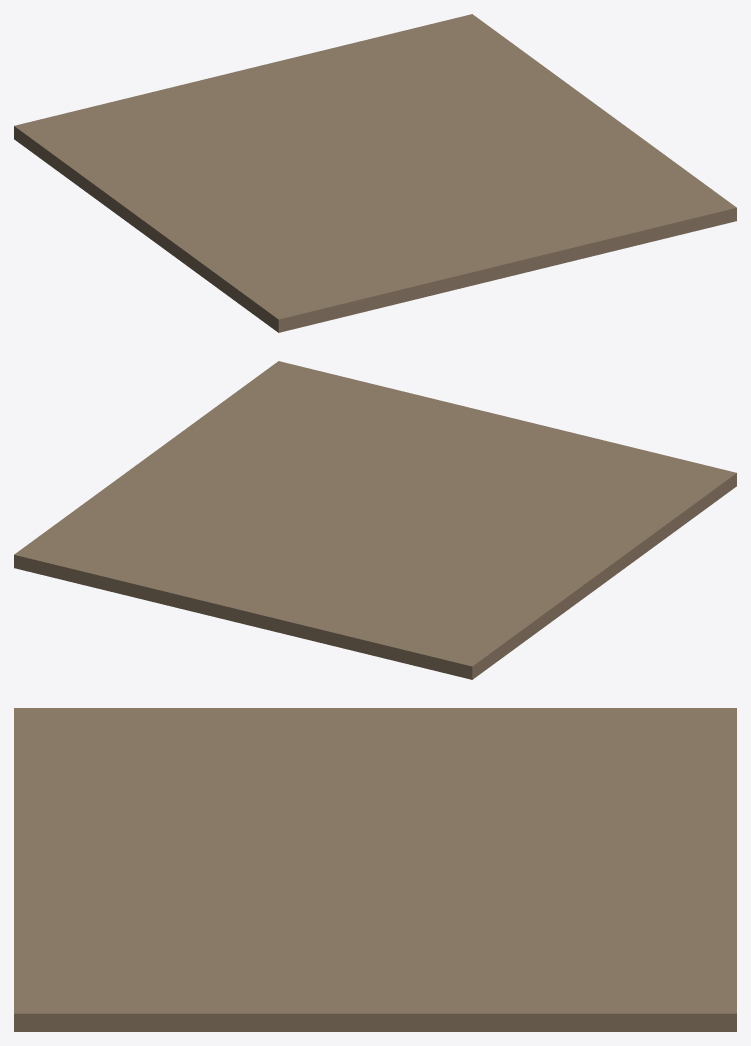
File: floor_4m.glb
3 views of the same model, one above another, from view 1: azimuth 30°, elevation 25°; view 2: azimuth 150°, elevation 25°; view 3: azimuth 270°, elevation 25° (orthographic). The views are drawn at different scales.
Parts seen in each view (by area): view 1: floor_4m; view 2: floor_4m; view 3: floor_4m.
Boxes of the visible parts, left/top/right/bottom form: floor_4m: left=14, top=14, right=736, bottom=332; floor_4m: left=14, top=361, right=736, bottom=679; floor_4m: left=14, top=708, right=736, bottom=1031.
Size of the model in its own units: 4.3 by 0.12 by 4.3.
